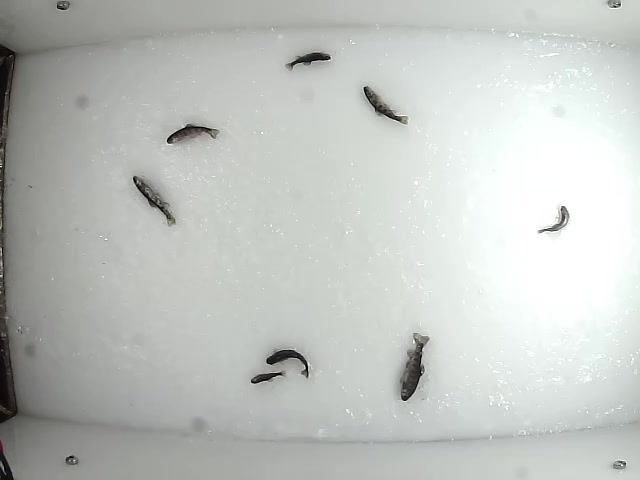fish: (129, 174, 178, 229), (397, 332, 432, 401), (360, 84, 411, 126), (265, 349, 310, 379), (166, 121, 219, 145), (536, 203, 572, 237), (282, 50, 332, 73), (249, 367, 288, 385)
